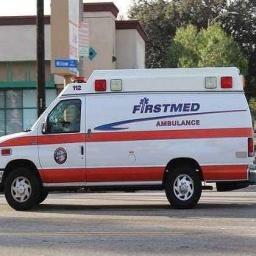Ambulance: (0, 67, 255, 209)
